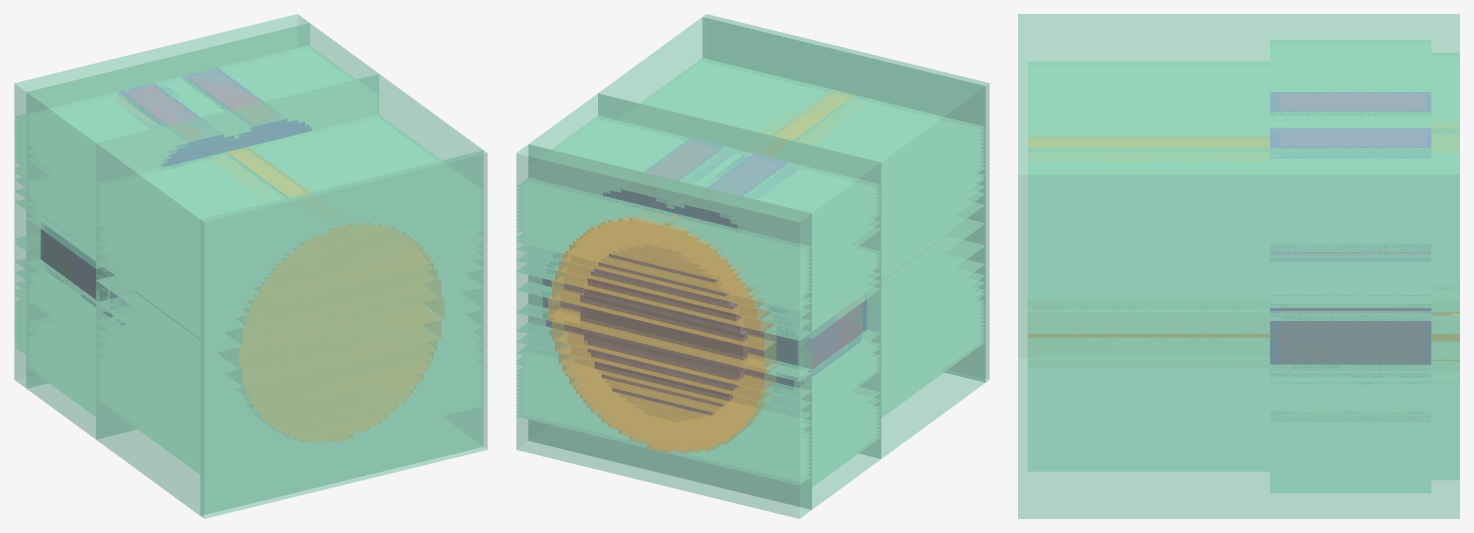
File: zones.glb
3 views of the same model, side by side, from view 1: azimuth 30°, elevation 25°; view 2: azimuth 150°, elevation 25°; view 3: azimuth 270°, elevation 25° (orthographic). The views are drawn at different scales.
Parts seen in each view (by area): view 1: A_370, A_360, A_228, A_369, A_2, A_317, A_303, A_278, A_320, C_203, A_276, A_300 (+89 smaller); view 2: A_360, A_228, A_370, A_2, A_45, A_317, A_282, A_303, C_17, C_27, A_278, A_369 (+155 smaller); view 3: A_360, A_228, A_317, A_369, A_357, A_318, A_270, A_276, A_303, A_336, A_278, A_299 (+89 smaller).
Boxes of the visible parts, box(x1,y1,x2,y2) form: A_370: box(200, 150, 487, 518); A_360: box(96, 74, 483, 259); A_228: box(26, 23, 378, 164); A_369: box(96, 398, 483, 515); A_2: box(14, 14, 309, 124); A_317: box(96, 152, 330, 263); A_303: box(249, 115, 483, 225); A_278: box(26, 92, 187, 168); A_320: box(96, 297, 242, 396); C_203: box(230, 297, 444, 368); A_276: box(219, 45, 378, 121); A_300: box(96, 276, 238, 378); A_360: box(598, 17, 985, 202); A_228: box(528, 93, 880, 234); A_370: box(702, 14, 989, 382); A_2: box(516, 144, 811, 255); A_45: box(516, 414, 811, 518); A_317: box(793, 95, 985, 206); A_282: box(528, 419, 880, 509); A_303: box(641, 58, 830, 134); C_17: box(548, 290, 776, 369); C_27: box(551, 273, 775, 350); A_278: box(720, 163, 880, 238); A_369: box(859, 342, 985, 458); A_360: box(1028, 14, 1269, 221); A_228: box(1270, 14, 1430, 199); A_317: box(1028, 61, 1269, 135); A_369: box(1028, 467, 1269, 518); A_357: box(1028, 312, 1269, 359); A_318: box(1028, 338, 1269, 380); A_270: box(1270, 313, 1430, 372); A_276: box(1270, 148, 1430, 204); A_303: box(1028, 148, 1269, 225); A_336: box(1028, 299, 1269, 333); A_278: box(1270, 40, 1430, 91); A_299: box(1028, 359, 1269, 393).
Bounding box in the file's own units: 800 × 800 × 930.
